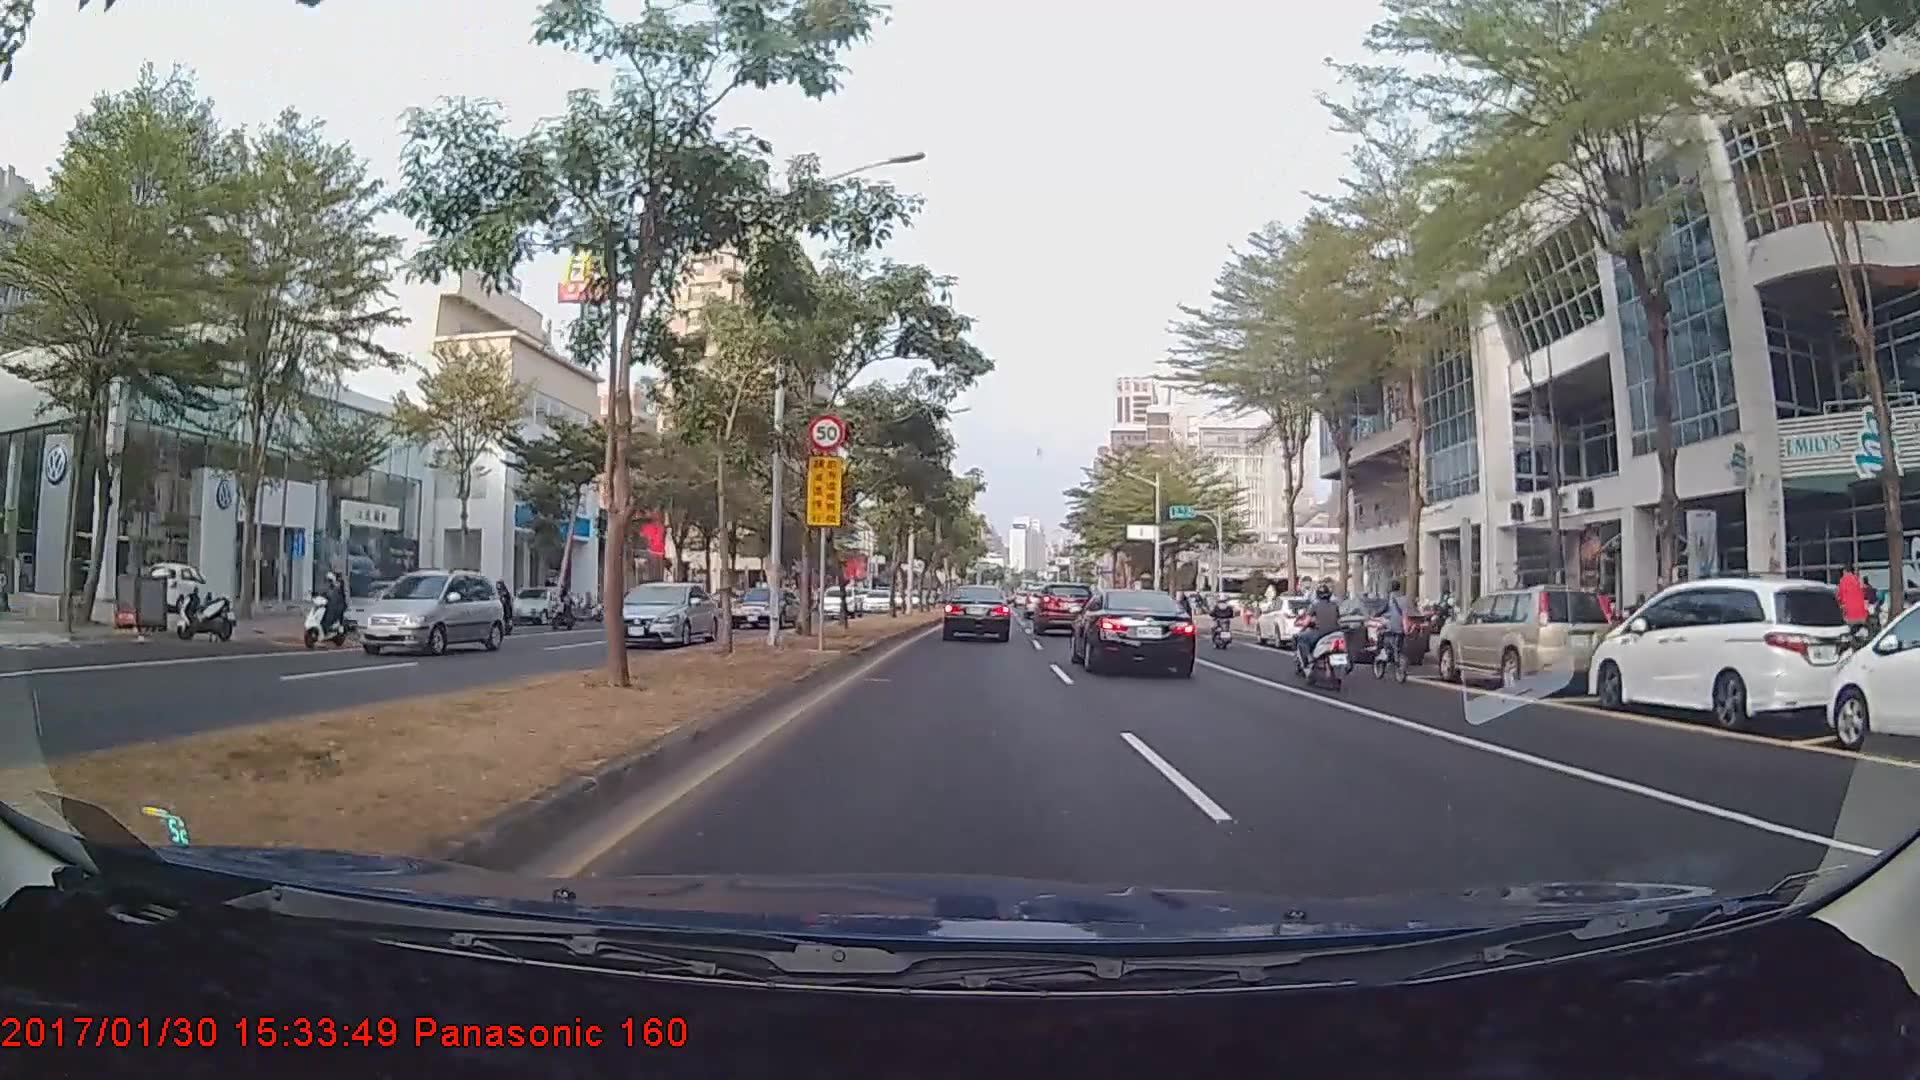rider: (1284, 582, 1360, 694), (1369, 578, 1420, 685), (1292, 590, 1344, 677), (299, 564, 351, 652), (1204, 594, 1239, 650)
vehicle: (1585, 570, 1853, 738), (1782, 586, 1920, 760), (1435, 588, 1612, 692), (352, 564, 508, 658), (1073, 583, 1197, 678), (1309, 597, 1426, 666), (610, 581, 720, 650), (1256, 592, 1336, 649), (941, 584, 1012, 643), (725, 585, 797, 629), (1031, 581, 1087, 635), (503, 586, 570, 623), (816, 579, 861, 617)
